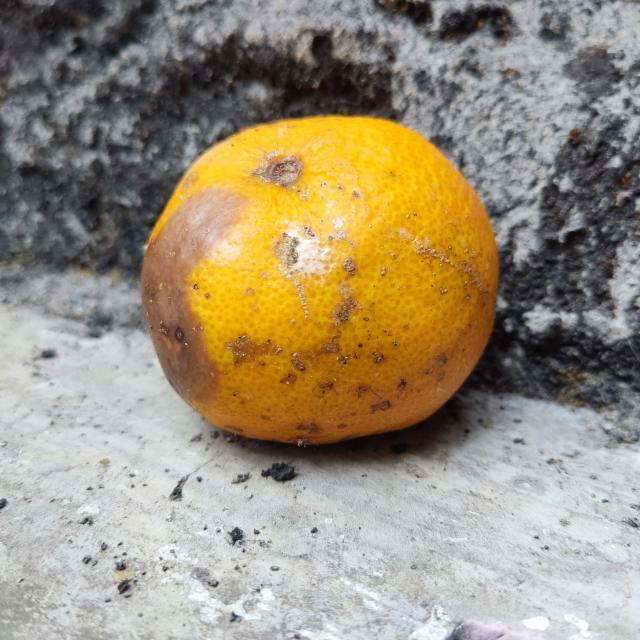orange: (140, 116, 500, 444)
